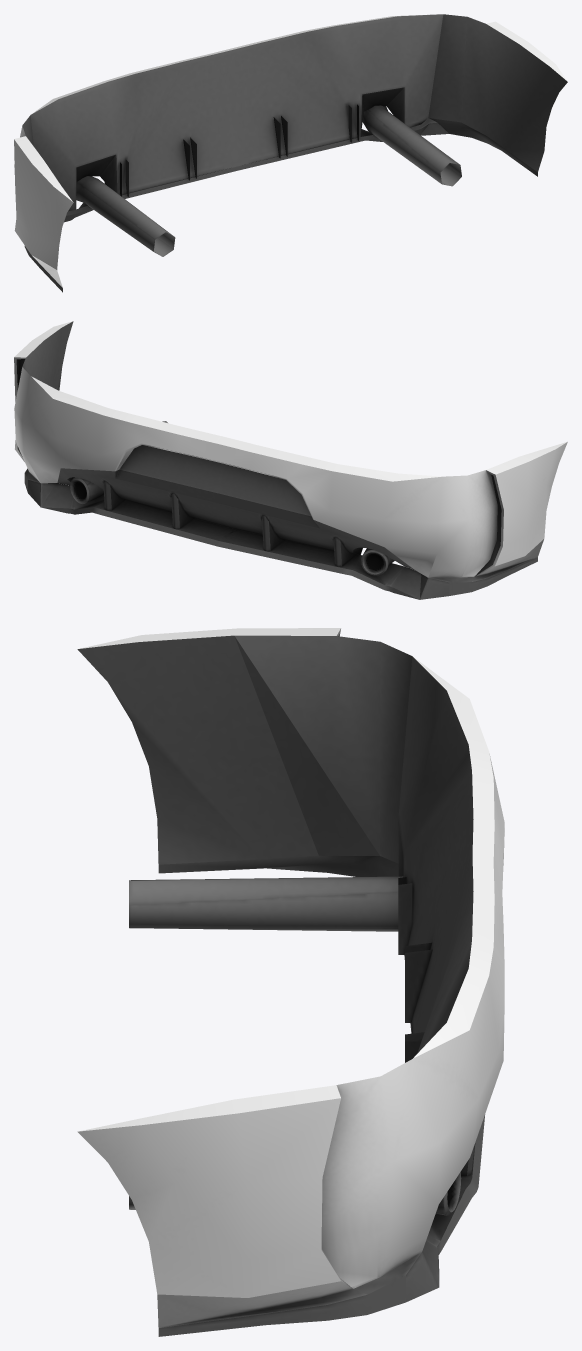
Rendered from Sport_2_Bumper_B_3.fbx.
The picture shows the model from 3 angles, top to bottom: view 1: azimuth 30°, elevation 25°; view 2: azimuth 150°, elevation 25°; view 3: azimuth 270°, elevation 25°; orthographic projection. The views are drawn at different scales.
Parts seen in each view (by area): view 1: Sport_2_Bumper_B_3; view 2: Sport_2_Bumper_B_3; view 3: Sport_2_Bumper_B_3.
Part boxes in pixels (bbox=[...]): Sport_2_Bumper_B_3: bbox=[14, 14, 567, 292]; Sport_2_Bumper_B_3: bbox=[14, 321, 567, 599]; Sport_2_Bumper_B_3: bbox=[77, 628, 504, 1336].
Bounding box in the file's own units: 181 × 42.92 × 66.62.
